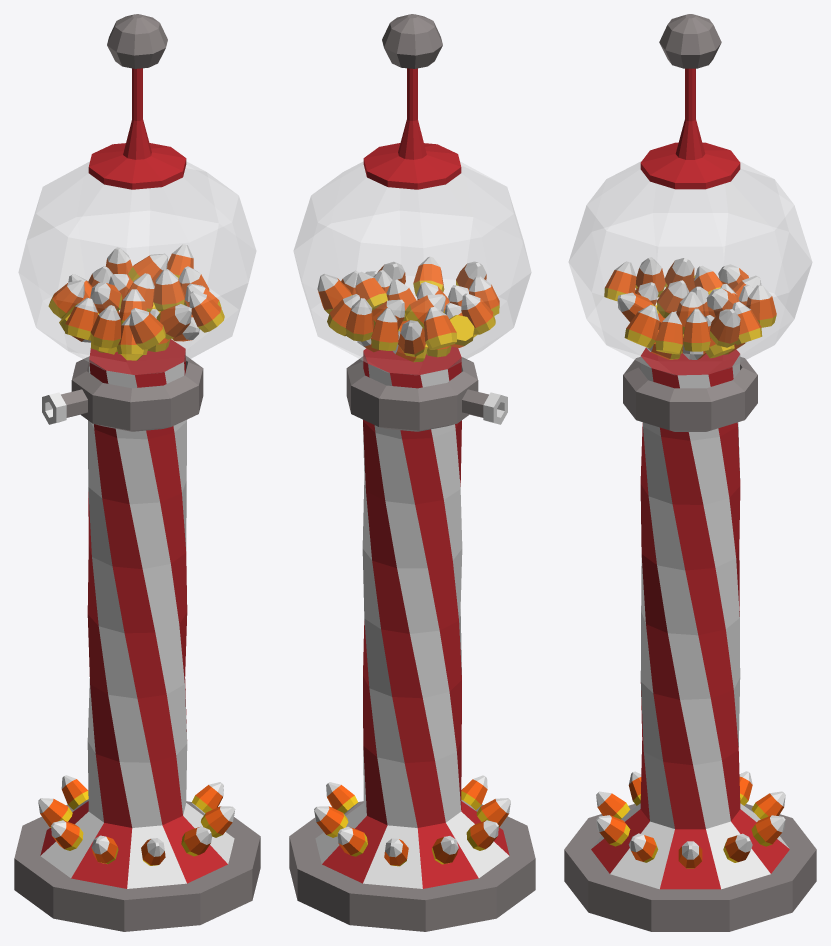
File: Tower_Attack_Speed (1).fbx
The picture shows the model from 3 angles, left to right: view 1: azimuth 30°, elevation 25°; view 2: azimuth 150°, elevation 25°; view 3: azimuth 270°, elevation 25°; orthographic projection.
Visible parts, largest first — view 1: Cylinder, glassKugel, ShootingRifle, cane.024, cane.018, cane.026, cane.020, cane.003, cane.010, cane.025, cane.007, cane.012 (+4 smaller); view 2: Cylinder, glassKugel, ShootingRifle, cane.010, cane.028, cane.027, cane.003, cane.023, cane.008, cane.007, cane.012, cane.025 (+5 smaller); view 3: Cylinder, glassKugel, ShootingRifle, cane.026, cane.005, cane.023, cane.021, cane.028, cane.024, cane.015, cane.011, cane.018 (+3 smaller).
Boxes of the visible parts, box(x1,y1,x2,y2) form: Cylinder: box(14, 14, 260, 931); glassKugel: box(18, 161, 256, 374); ShootingRifle: box(42, 356, 203, 431); cane.024: box(129, 308, 165, 349); cane.018: box(90, 305, 120, 348); cane.026: box(189, 291, 224, 332); cane.020: box(153, 269, 184, 311); cane.003: box(65, 297, 97, 340); cane.010: box(48, 280, 84, 318); cane.025: box(156, 304, 191, 339); cane.007: box(128, 253, 167, 286); cane.012: box(90, 282, 122, 313); Cylinder: box(289, 14, 535, 931); glassKugel: box(293, 161, 531, 374); ShootingRifle: box(346, 356, 507, 431); cane.010: box(424, 306, 456, 349); cane.028: box(345, 298, 374, 341); cane.027: box(371, 308, 398, 350); cane.003: box(461, 293, 495, 334); cane.023: box(317, 273, 351, 313); cane.008: box(398, 320, 425, 356); cane.007: box(355, 271, 387, 310); cane.012: box(405, 294, 445, 329); cane.025: box(413, 256, 444, 296); Cylinder: box(564, 14, 816, 931); glassKugel: box(568, 161, 812, 374); ShootingRifle: box(623, 357, 757, 431); cane.026: box(624, 305, 659, 348); cane.005: box(683, 308, 710, 351); cane.023: box(709, 309, 740, 347); cane.021: box(655, 311, 683, 354); cane.028: box(746, 284, 776, 327); cane.024: box(604, 261, 636, 301); cane.015: box(732, 301, 762, 344); cane.011: box(657, 280, 689, 318); cane.018: box(635, 257, 665, 297).
Size of the model in its own units: 83.34 by 331 by 87.63.
